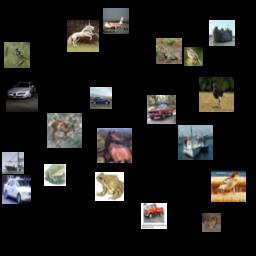airplane: (103, 8, 129, 34)
automobile: (6, 80, 38, 112), (2, 175, 31, 204), (147, 95, 176, 124), (90, 87, 112, 109)
bird: (199, 77, 234, 112), (211, 167, 246, 202), (4, 42, 30, 68), (184, 47, 203, 66)
deer: (47, 113, 82, 148)
frog: (95, 172, 124, 201), (156, 38, 182, 64), (44, 164, 66, 186), (202, 213, 221, 232)
ship: (178, 125, 213, 160), (209, 20, 235, 46), (2, 152, 24, 174)
truck: (141, 203, 167, 229)
